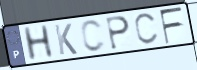C: (79, 18, 108, 54), (133, 11, 161, 47)
F: (158, 6, 185, 46)
H: (21, 23, 56, 63)
K: (53, 22, 79, 57)
P: (105, 15, 131, 51)
